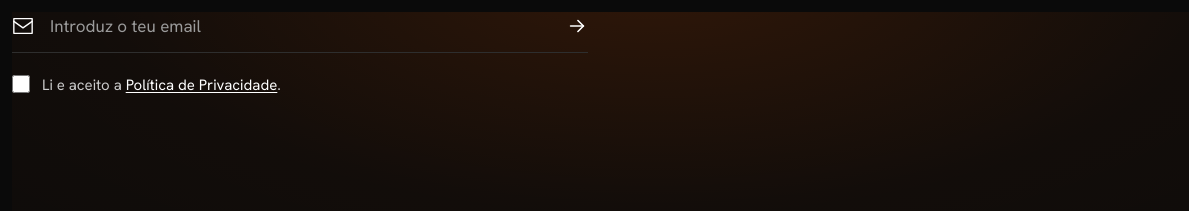
Scenario: NewsletterForm › distinguishes an incomplete email from missing consent
In the field labelled "email": (300, 26) [50,12,550,40], type "filipa.example.com"
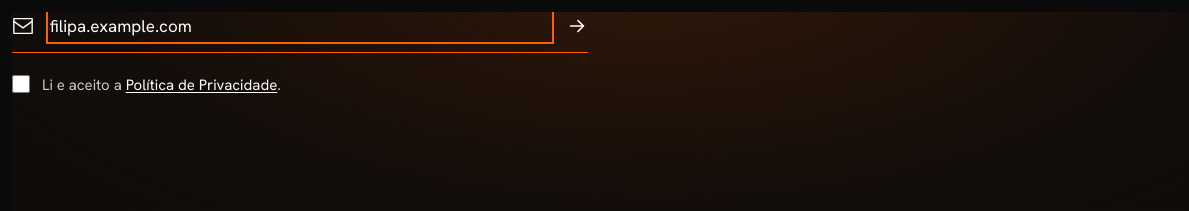
Click the button named "Subscrever newsletter": (577, 26) [566,15,588,37]
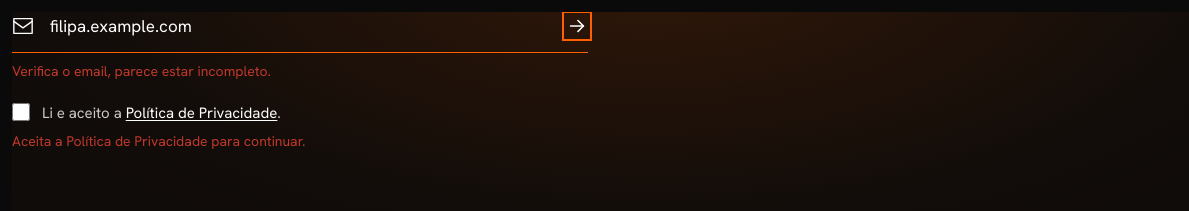
Check: the text "Verifica o email, parece estar incompleto." is shown, box [12,62,271,80]
Check: the text "Aceita a Política de Privacidade para continuar." is shown, box [12,132,305,150]
